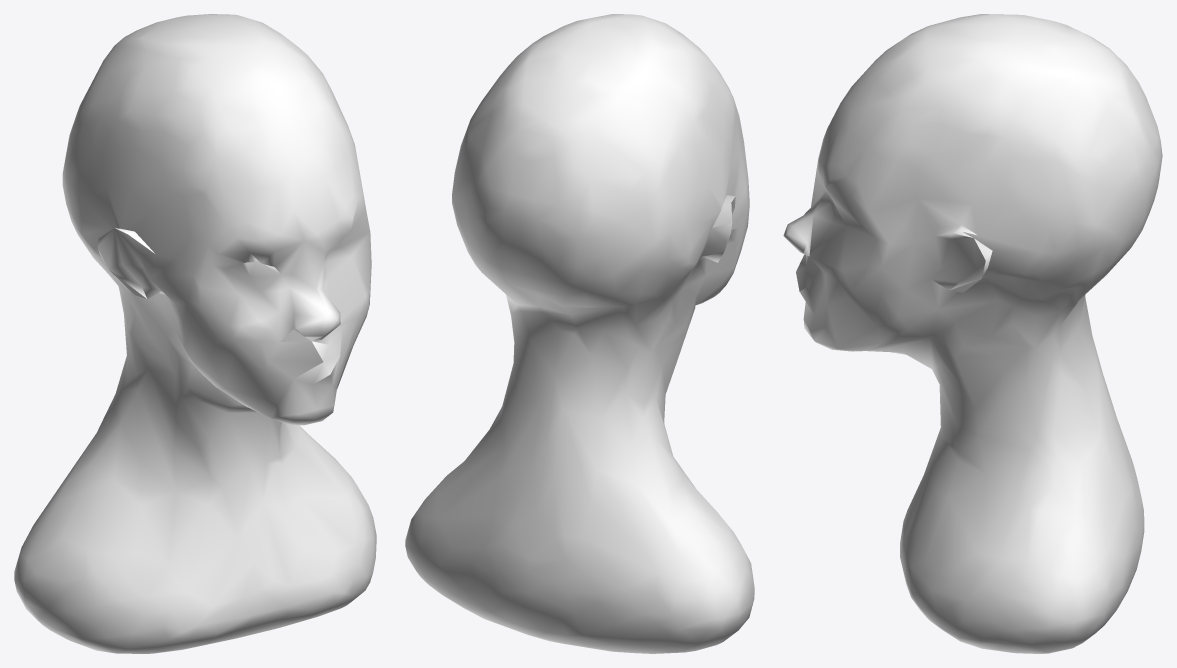
File: headsimple.dae
3 views of the same model, side by side, from view 1: azimuth 30°, elevation 25°; view 2: azimuth 150°, elevation 25°; view 3: azimuth 270°, elevation 25° (orthographic). The views are drawn at different scales.
Parts seen in each view (by area): view 1: head_Mesh; view 2: head_Mesh; view 3: head_Mesh.
Boxes of the visible parts, x1,y1,x2,y2 form: head_Mesh: (14,14,376,653); head_Mesh: (405,14,754,653); head_Mesh: (783,14,1162,653).
Bounding box in the file's own units: 1.28 × 2.17 × 1.29.
Materials: 1 (1 with a texture image).
